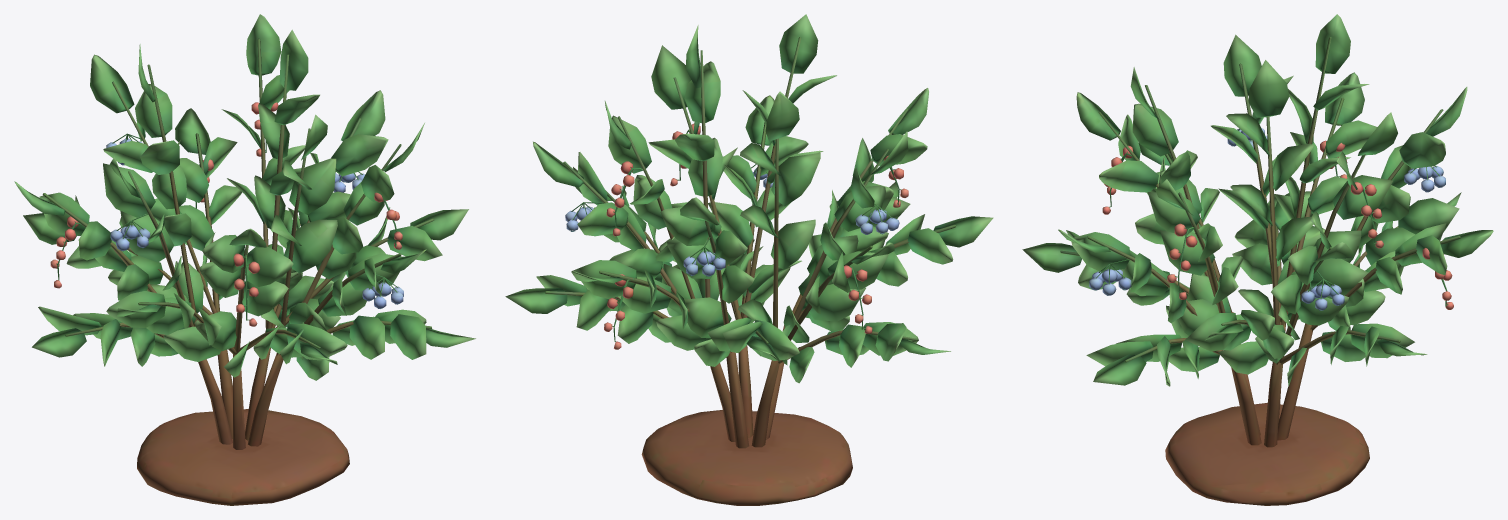
File: berry.glb
3 renders of one model, left to right at view 1: azimuth 30°, elevation 25°; view 2: azimuth 150°, elevation 25°; view 3: azimuth 270°, elevation 25°, orthographic.
Parts seen in each view (by area): view 1: berry-bush_body; view 2: berry-bush_body; view 3: berry-bush_body.
Part boxes in pixels (left/top/right/bottom): berry-bush_body: left=14, top=14, right=475, bottom=505; berry-bush_body: left=505, top=14, right=993, bottom=505; berry-bush_body: left=1022, top=14, right=1493, bottom=505.
Bounding box in the file's own units: 0.882 × 0.8708 × 0.8763.
Materials: 1 (1 with a texture image).
